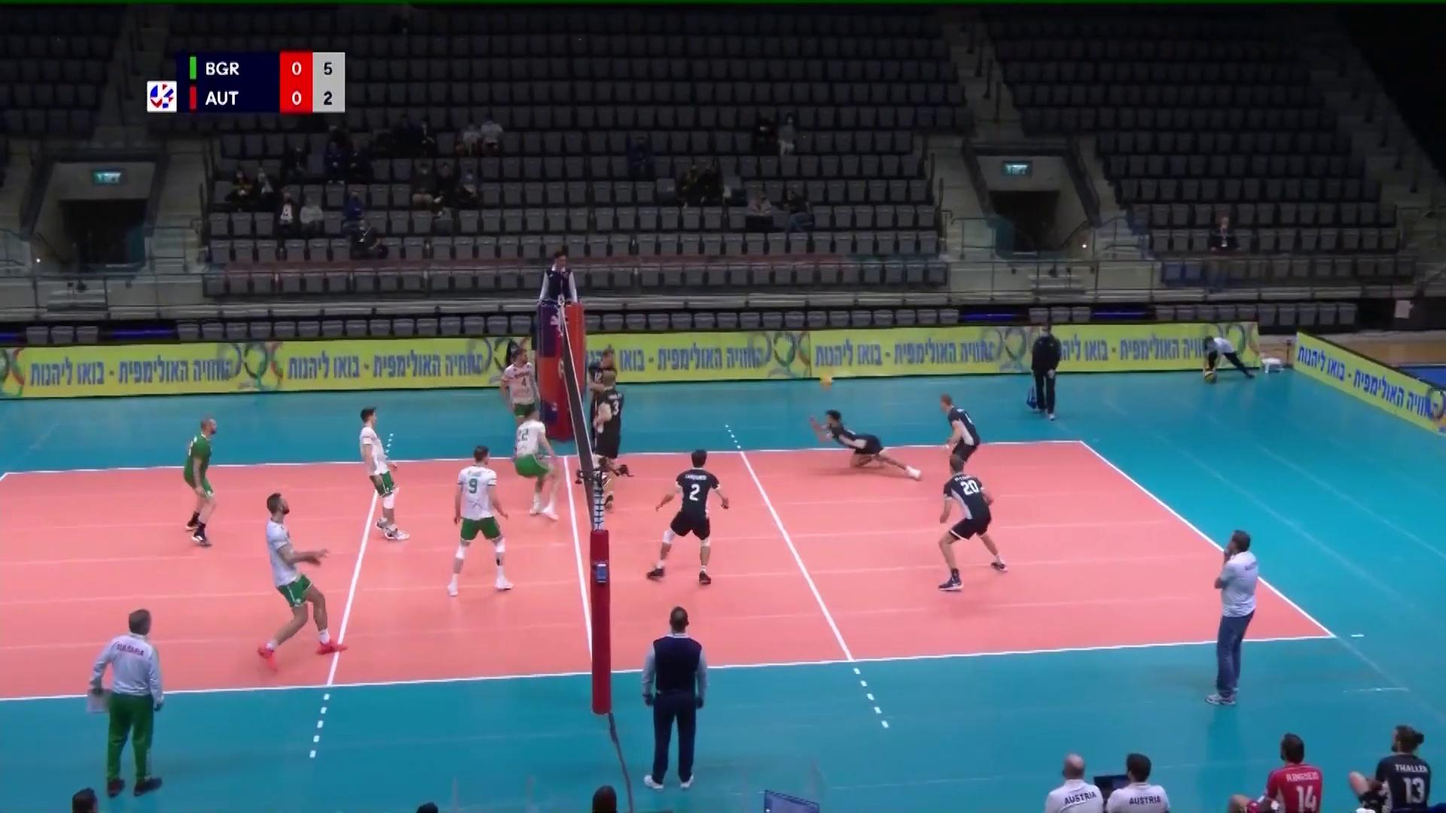ball: (819, 373, 835, 388)
